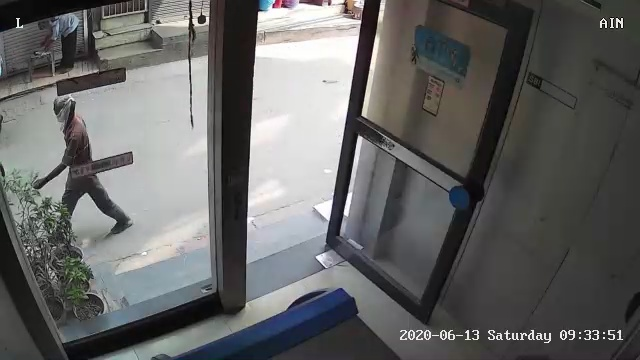open: (194, 4, 538, 326)
